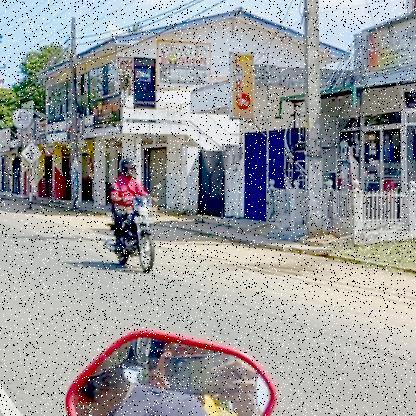motorcycle: (101, 195, 164, 275)
